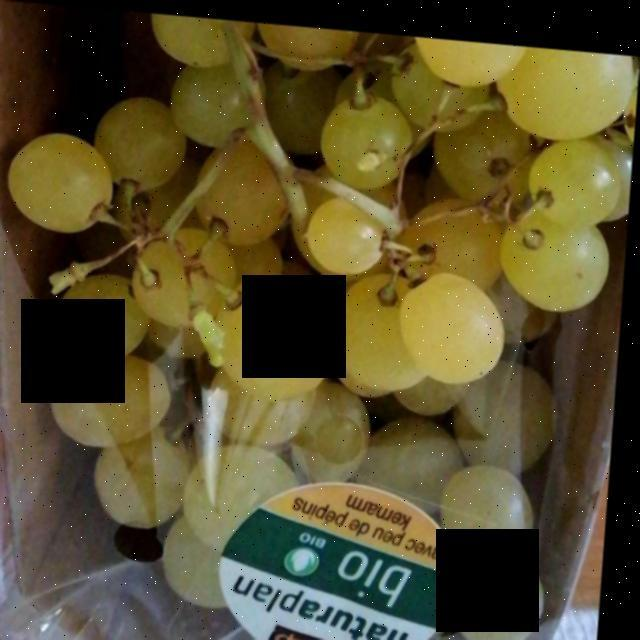grapes: (17, 26, 602, 638)
